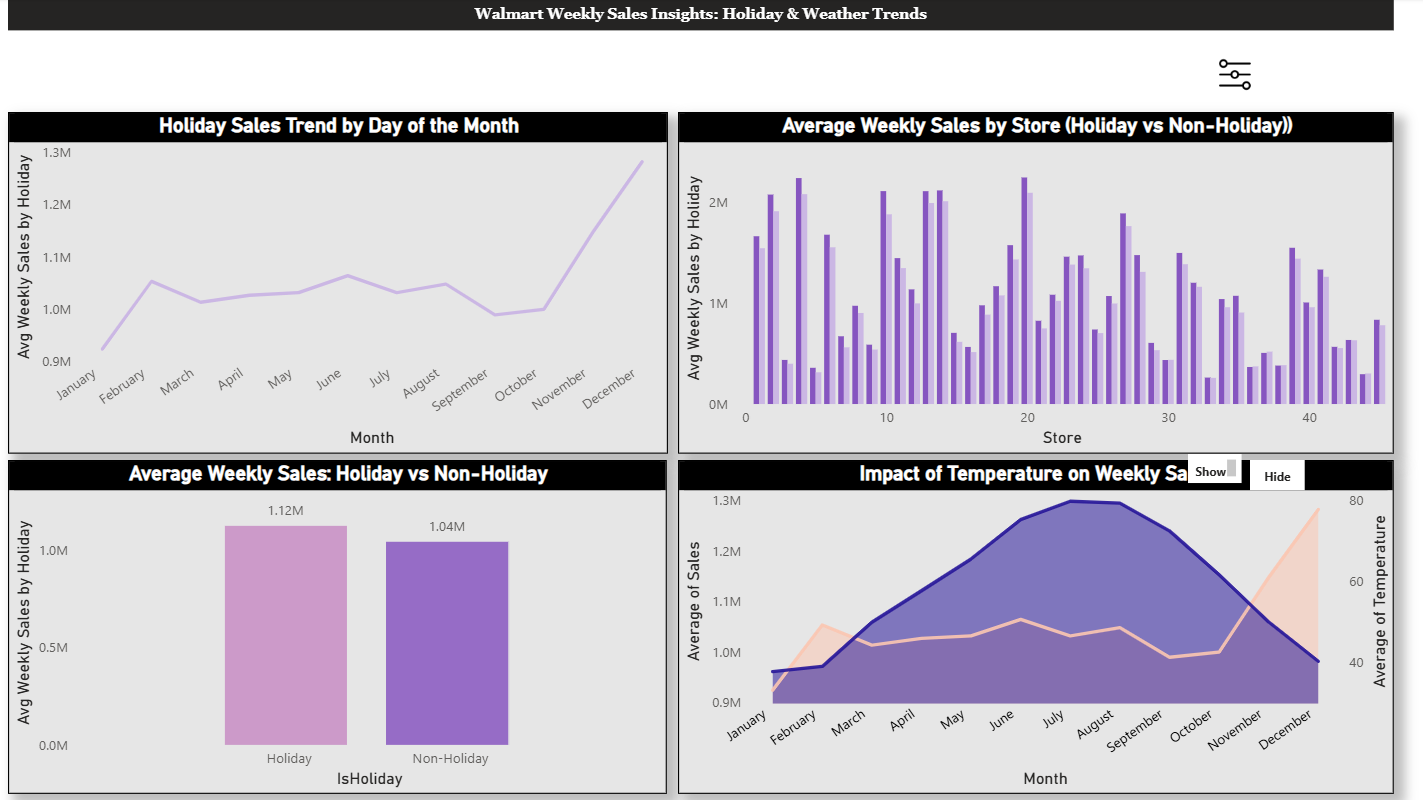

Layout of this report page (visuals, bound fields, positions):
{"tool":"powerbi","page":{"name":"Page 1","canvas":[1280,720],"ordinal":0},"visuals":[{"type":"lineChart","title":"Holiday Sales Trend by Day of the Month","fields":{"Category":["Walmart.Date Formatted.Variation.Date Hierarchy.Year","Walmart.Date Formatted.Variation.Date Hierarchy.Quarter","Walmart.Date Formatted.Variation.Date Hierarchy.Month","Walmart.Date Formatted.Variation.Date Hierarchy.Day"],"Y":["Walmart.Avg Weekly Sales by Holiday"]},"box":[8.8,102.2,591.4,305.5],"z":0},{"type":"columnChart","title":"Average Weekly Sales: Holiday vs Non-Holiday","fields":{"Category":["Walmart.IsHoliday"],"Y":["Walmart.Avg Weekly Sales by Holiday"]},"box":[9,413.7,590.1,299.1],"z":1000},{"type":"clusteredColumnChart","title":"Average Weekly Sales by Store (Holiday vs Non-Holiday))","fields":{"Y":["Walmart.Avg Weekly Sales by Holiday"],"Category":["Walmart.Store"],"Series":["Walmart.IsHoliday"]},"box":[609.1,102.2,641.5,305.5],"z":2000},{"type":"areaChart","title":"Impact of Temperature on Weekly Sales","fields":{"Y":["Avg(Walmart.Sales)"],"Category":["Walmart.Date Formatted.Variation.Date Hierarchy.Month"],"Y2":["Avg(Walmart.Temperature)"]},"box":[609,413.7,641.2,299.1],"z":3000},{"type":"textbox","box":[8.9,0,1240.9,29.2],"z":4000},{"type":"textbox","box":[1065.5,408.4,47.9,26.2],"z":6000},{"type":"textbox","box":[1121.4,414.1,49.1,27.4],"z":7000},{"type":"image","title":"Filter Button","box":[1065.5,46.8,83.3,44.5],"z":9000}]}

Visuals, with their boxes in screenshot pixels (x1, y1, x2, y2), scaled from the page's 1280x720 canvas onto the 1423x800 screenshot:
"Holiday Sales Trend by Day of the Month" lineChart: <bbox>10, 114, 667, 453</bbox>
"Average Weekly Sales: Holiday vs Non-Holiday" columnChart: <bbox>10, 460, 666, 792</bbox>
"Average Weekly Sales by Store (Holiday vs Non-Holiday))" clusteredColumnChart: <bbox>677, 114, 1390, 453</bbox>
"Impact of Temperature on Weekly Sales" areaChart: <bbox>677, 460, 1390, 792</bbox>
textbox: <bbox>10, 0, 1389, 32</bbox>
textbox: <bbox>1185, 454, 1238, 483</bbox>
textbox: <bbox>1247, 460, 1301, 491</bbox>
"Filter Button" image: <bbox>1185, 52, 1277, 101</bbox>
